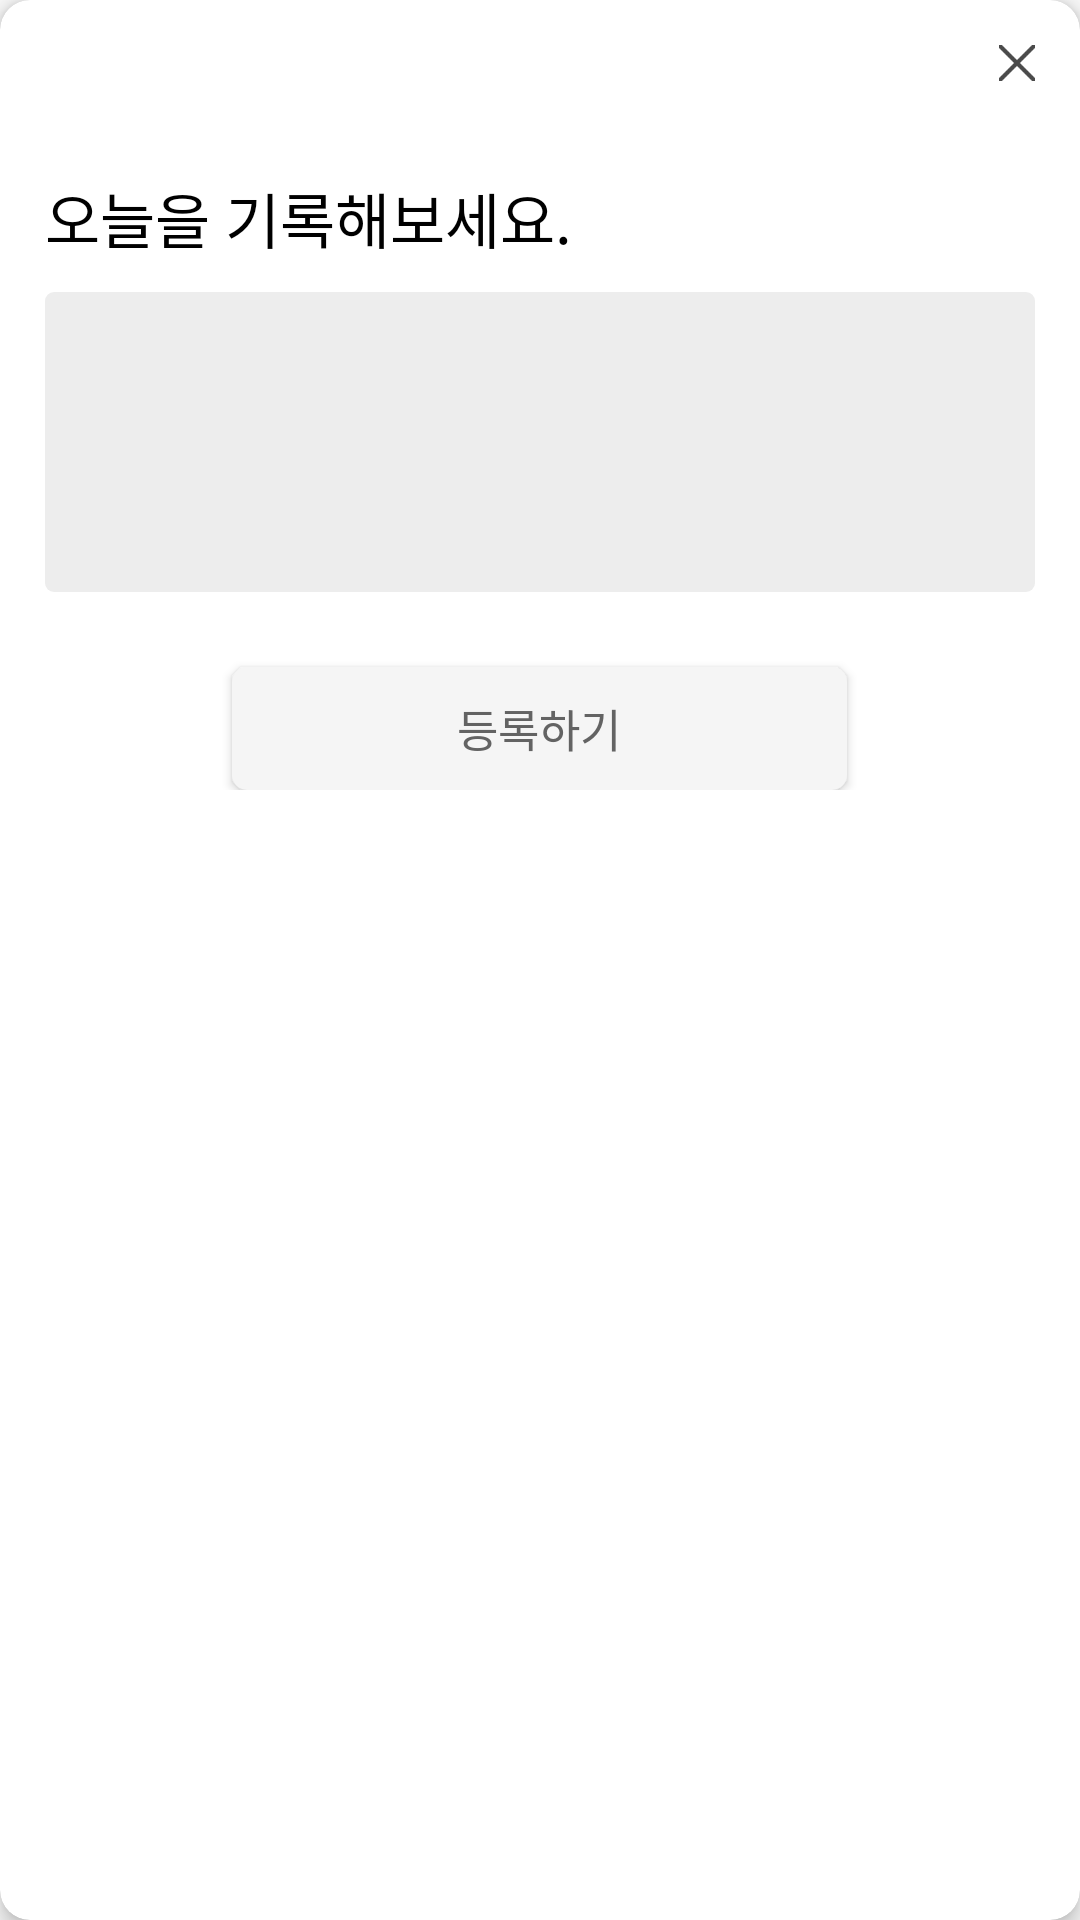

Icon bounding boxes for this 1080x1920 phone screenshot, format [left=x1, top=y1, right=x2, bottom=y2]:
cancel: [left=999, top=45, right=1035, bottom=81]
